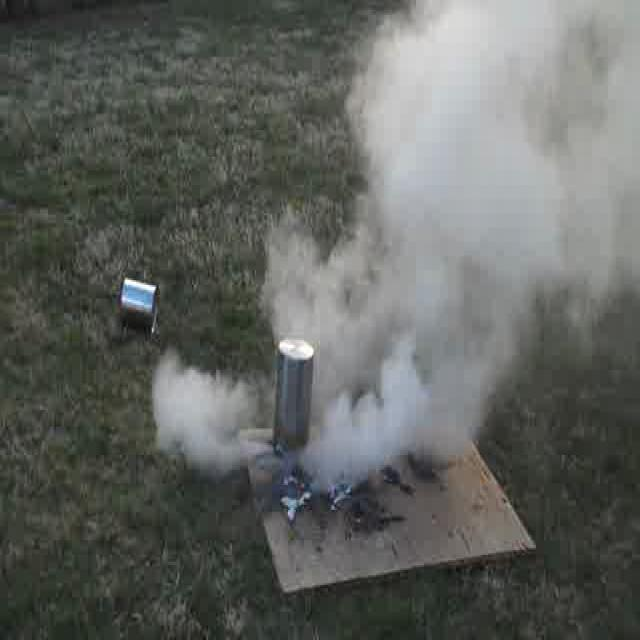Smoke: (314, 8, 636, 480), (150, 356, 266, 478)
